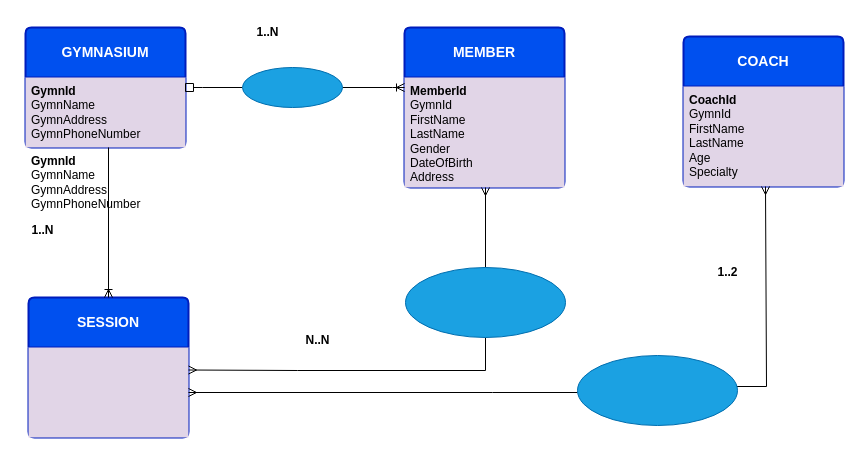
Image size: 861x455. Some labels were removed from this diagram. The centre of each missing label's shape, as x and y in pixels:
"Register" belongs at (x=292, y=87).
"SessionCoach SessionId CoachId" belongs at (x=657, y=390).
"SessionId SportType Schedule MaxCapacity" belongs at (x=108, y=392).
"SessionRegistration MemberId SessionId" belongs at (x=485, y=302).
